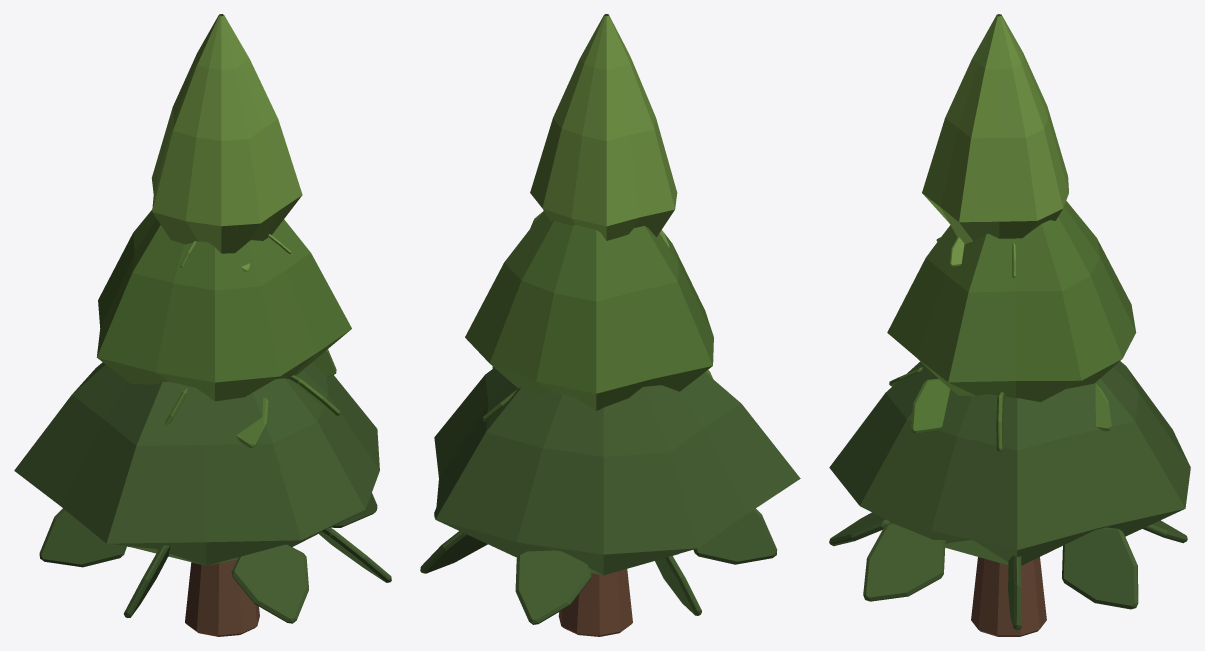
Rendered from prop_pine_young.glb.
3 renders of one model, left to right at view 1: azimuth 30°, elevation 25°; view 2: azimuth 150°, elevation 25°; view 3: azimuth 270°, elevation 25°, orthographic.
Parts seen in each view (by area): view 1: pyg_tier0, pyg_tier1, pyg_tier2, pyg_trunk, pyg_tier0_leaf5, pyg_tier0_leaf3, pyg_tier0_leaf6, pyg_tier0_leaf4, pyg_tier1_leaf5; view 2: pyg_tier0, pyg_tier1, pyg_tier2, pyg_tier0_leaf2, pyg_trunk, pyg_tier0_leaf4, pyg_tier0_leaf1, pyg_tier0_leaf3; view 3: pyg_tier0, pyg_tier1, pyg_tier2, pyg_tier0_leaf1, pyg_tier0_leaf6, pyg_trunk, pyg_tier1_leaf6, pyg_tier0_leaf5, pyg_tier0_leaf0, pyg_tier1_leaf1.
Part boxes in pixels (x1,y1,x2,y2): pyg_tier0: (14,362,379,565); pyg_tier1: (96,210,351,401); pyg_tier2: (151,14,302,253); pyg_trunk: (185,559,259,636); pyg_tier0_leaf5: (231,544,308,623); pyg_tier0_leaf3: (39,508,126,567); pyg_tier0_leaf6: (319,527,391,582); pyg_tier0_leaf4: (124,545,170,617); pyg_tier1_leaf5: (236,397,268,447); pyg_tier0: (434,368,800,575); pyg_tier1: (465,211,713,410); pyg_tier2: (530,14,677,240); pyg_tier0_leaf2: (515,550,591,624); pyg_trunk: (558,569,632,636); pyg_tier0_leaf4: (693,508,777,564); pyg_tier0_leaf1: (420,531,487,573); pyg_tier0_leaf3: (655,555,701,615); pyg_tier0: (829,361,1190,565); pyg_tier1: (887,201,1136,401); pyg_tier2: (922,14,1068,243); pyg_tier0_leaf1: (1062,527,1138,609); pyg_tier0_leaf6: (863,523,945,601); pyg_trunk: (971,557,1046,636); pyg_tier1_leaf6: (911,378,950,433); pyg_tier0_leaf5: (829,512,891,546); pyg_tier0_leaf0: (1008,555,1021,630); pyg_tier1_leaf1: (1095,384,1111,431).
Bounding box in the file's own units: 1 × 1.83 × 0.9925.
